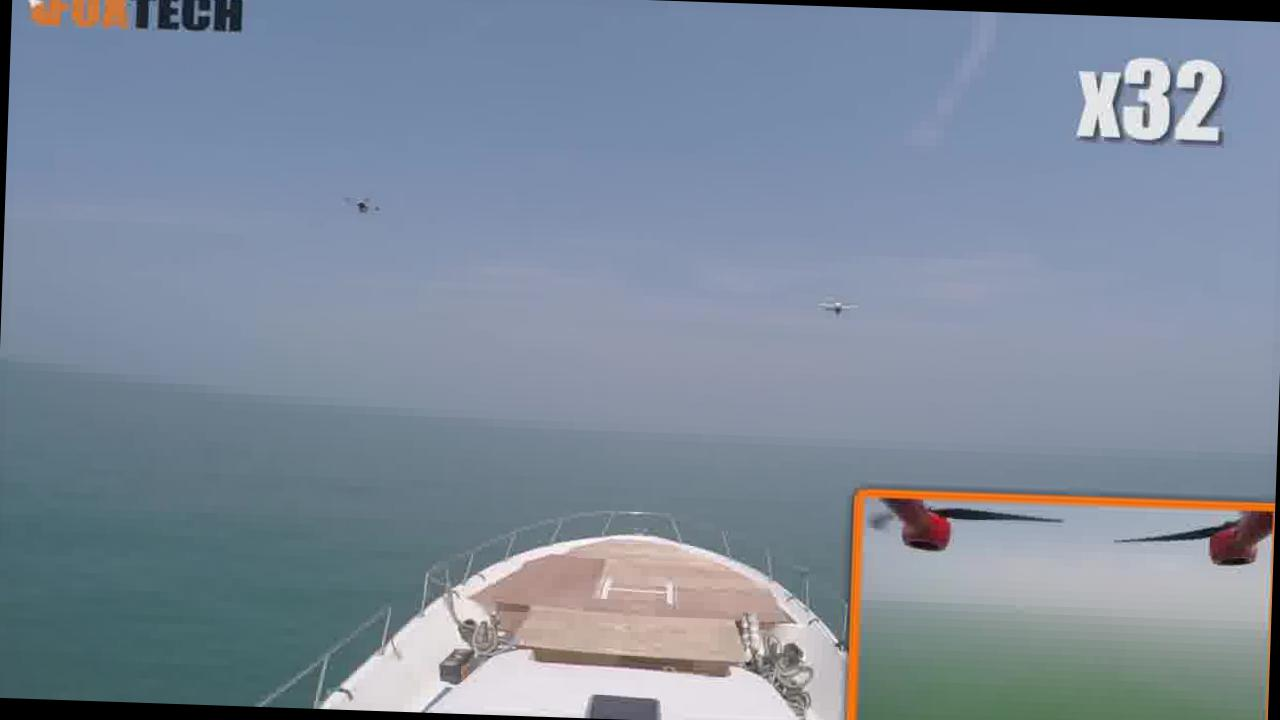drone: (312, 165, 406, 238), (792, 284, 877, 332)
